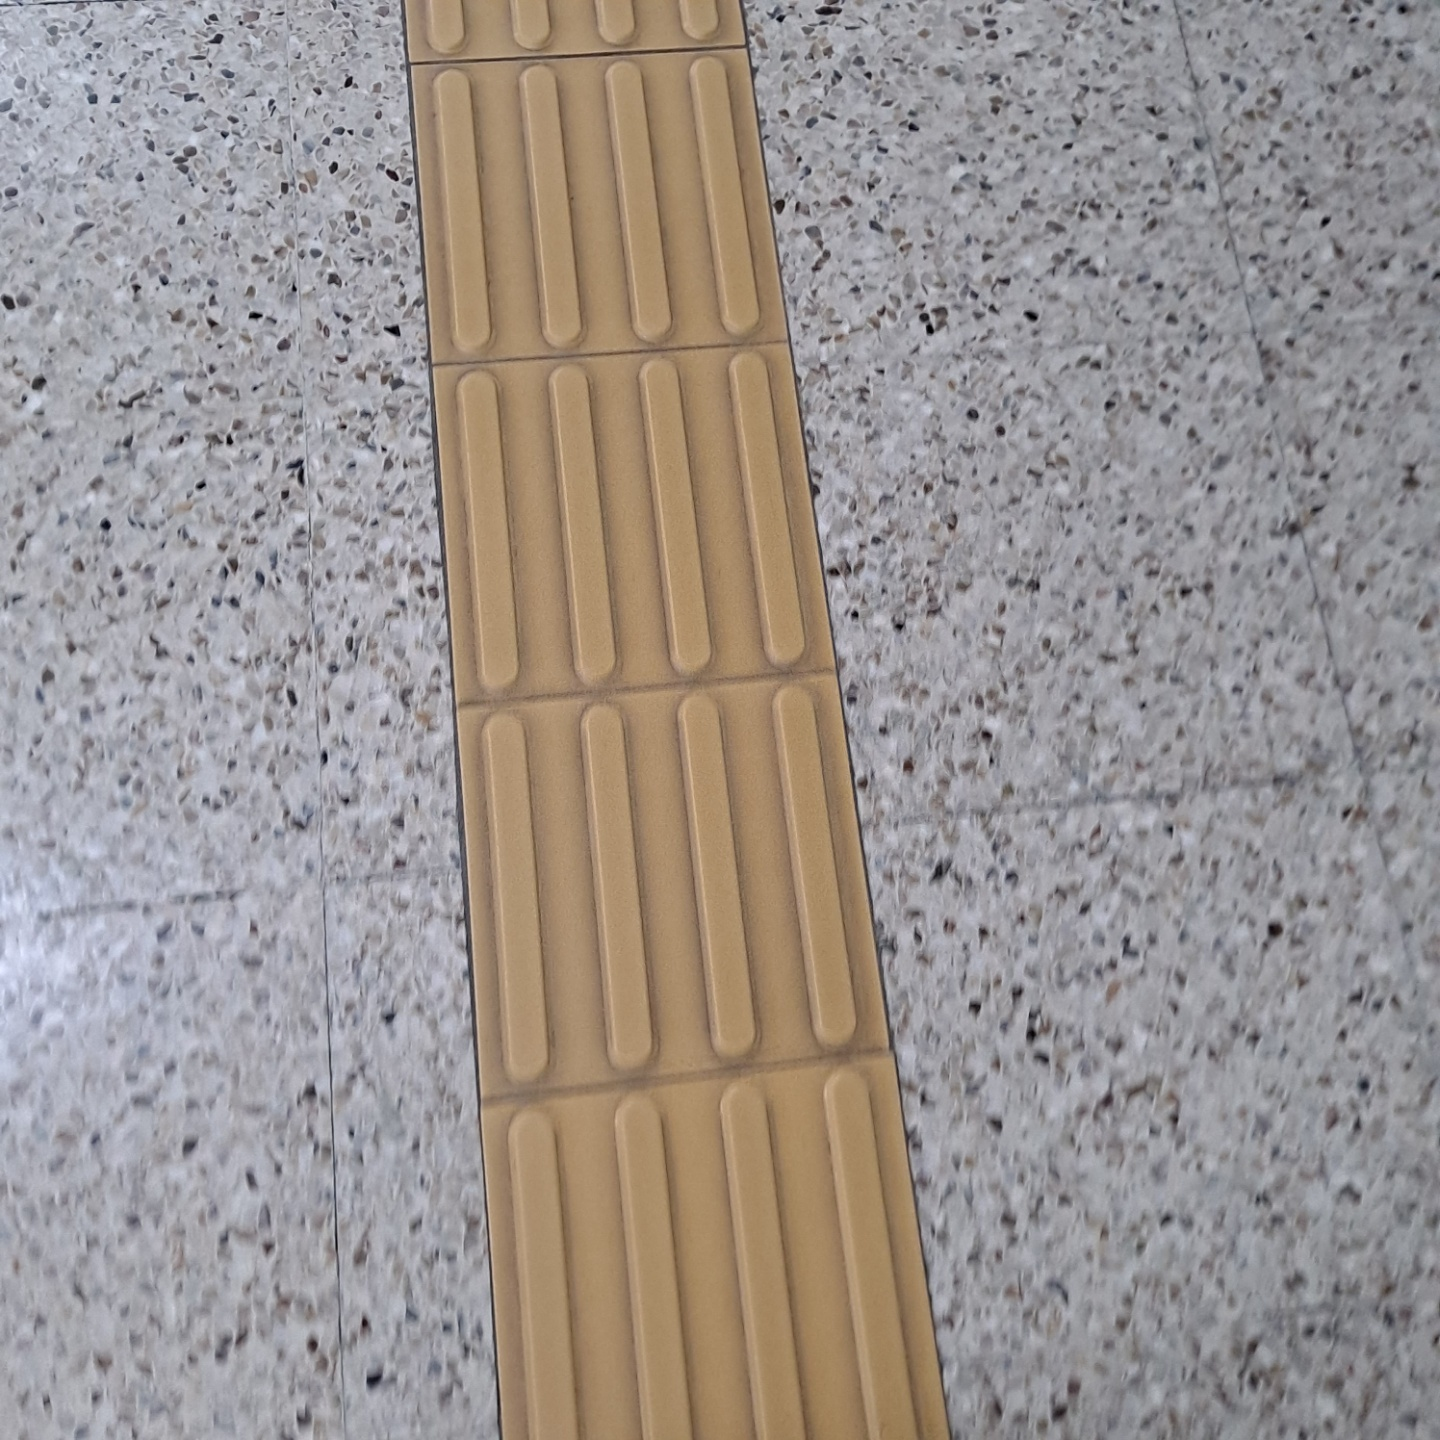guideBlock: (509, 1100, 967, 1440), (467, 703, 889, 1065), (426, 51, 775, 386), (452, 372, 851, 659), (423, 1, 737, 49)
